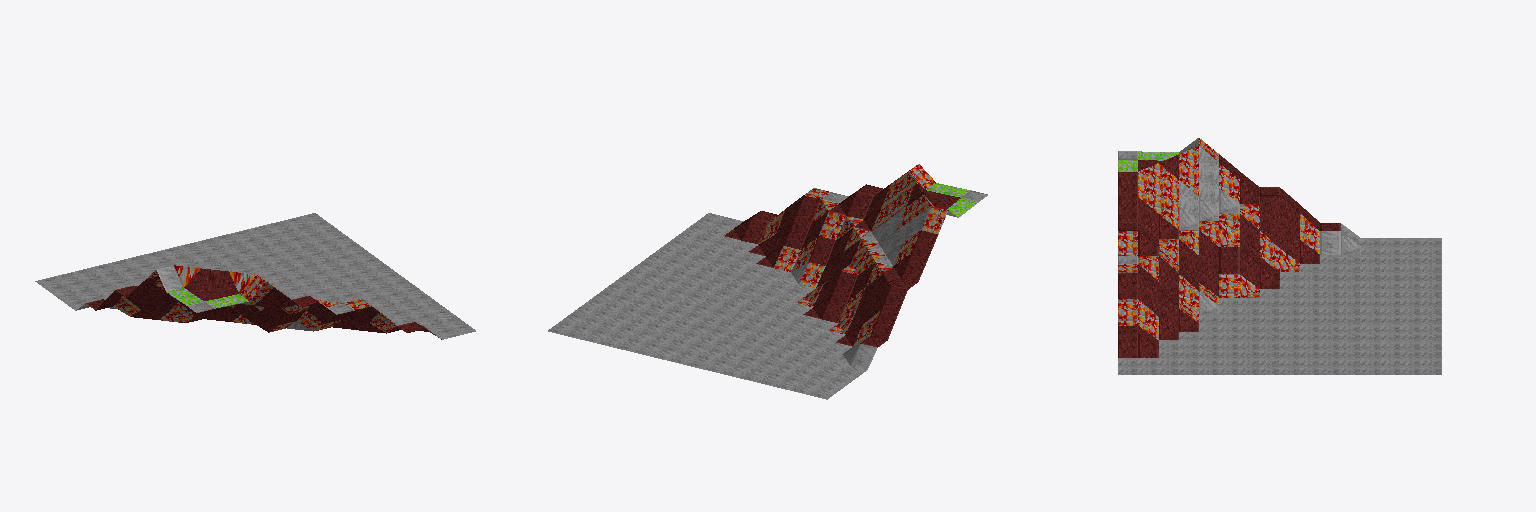
The picture shows the model from 3 angles: view 1: azimuth 30°, elevation 25°; view 2: azimuth 150°, elevation 25°; view 3: azimuth 270°, elevation 25°; orthographic projection.
Visible parts, largest first — view 1: cornerRock_2; view 2: cornerRock_2; view 3: cornerRock_2.
Part boxes in pixels (left/top/right/bottom): cornerRock_2: left=35, top=213, right=475, bottom=339; cornerRock_2: left=548, top=164, right=987, bottom=399; cornerRock_2: left=1118, top=138, right=1441, bottom=374.
Bounding box in the file's own units: 16 × 5.48 × 16.
Materials: 10 (10 with a texture image).